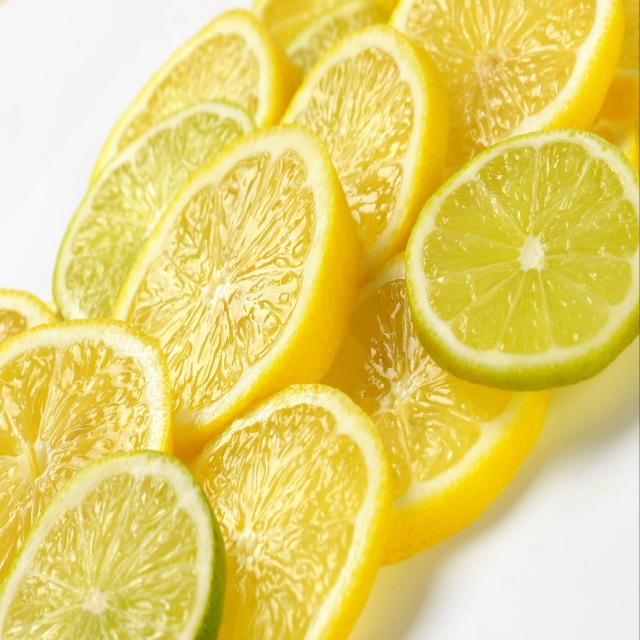lemon: (98, 117, 361, 472)
